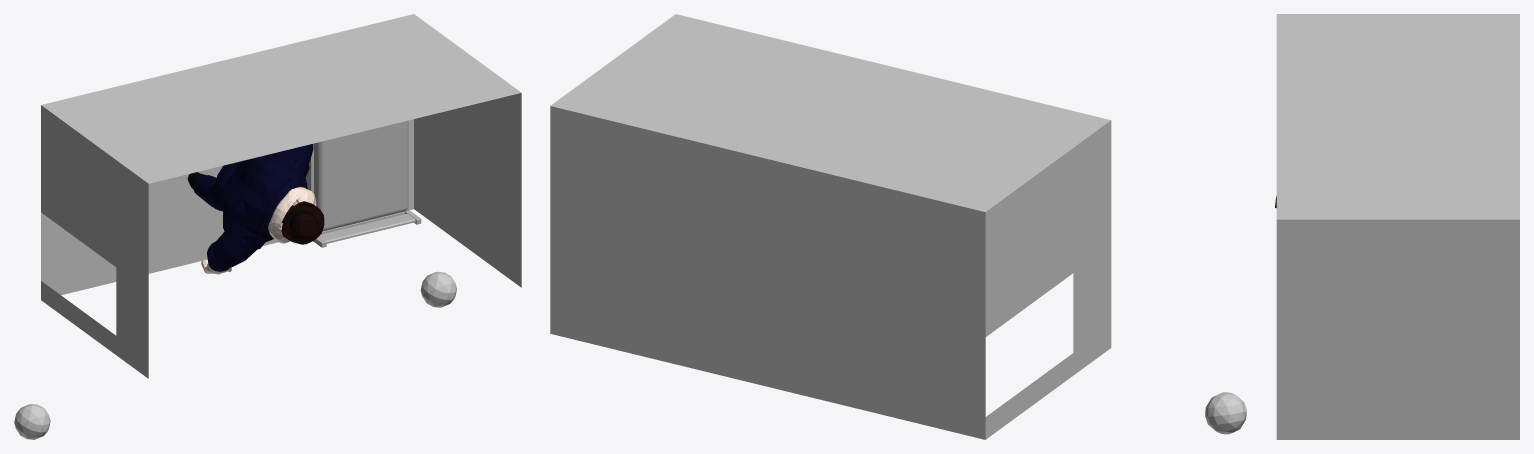
File: AlSceneV3.obj
The picture shows the model from 3 angles, left to right: view 1: azimuth 30°, elevation 25°; view 2: azimuth 150°, elevation 25°; view 3: azimuth 270°, elevation 25°; orthographic projection. The views are drawn at different scales.
Parts seen in each view (by area): view 1: Object.4, Object.5, Object.9, Object.10, Object.3, Object.8, Object.6, Object.7, Object.2, Object.1; view 2: Object.3, Object.4, Object.8, Object.6, Object.7, Object.2; view 3: Object.5, Object.4.
Part boxes in pixels (x1,y1,x2,y2): Object.4: (41,14,521,183); Object.5: (414,93,521,287); Object.9: (187,144,324,274); Object.10: (305,120,421,247); Object.3: (41,119,413,295); Object.8: (41,105,116,266); Object.6: (116,160,148,378); Object.7: (41,281,116,354); Object.2: (14,404,50,439); Object.1: (420,271,456,307); Object.3: (550,106,985,439); Object.4: (550,14,1110,211); Object.8: (985,148,1073,336); Object.6: (1073,120,1111,375); Object.7: (985,353,1073,439); Object.2: (1205,392,1246,434); Object.5: (1276,219,1519,439); Object.4: (1276,14,1519,219).
Size of the model in its own units: 133 by 60.18 by 50.34.
